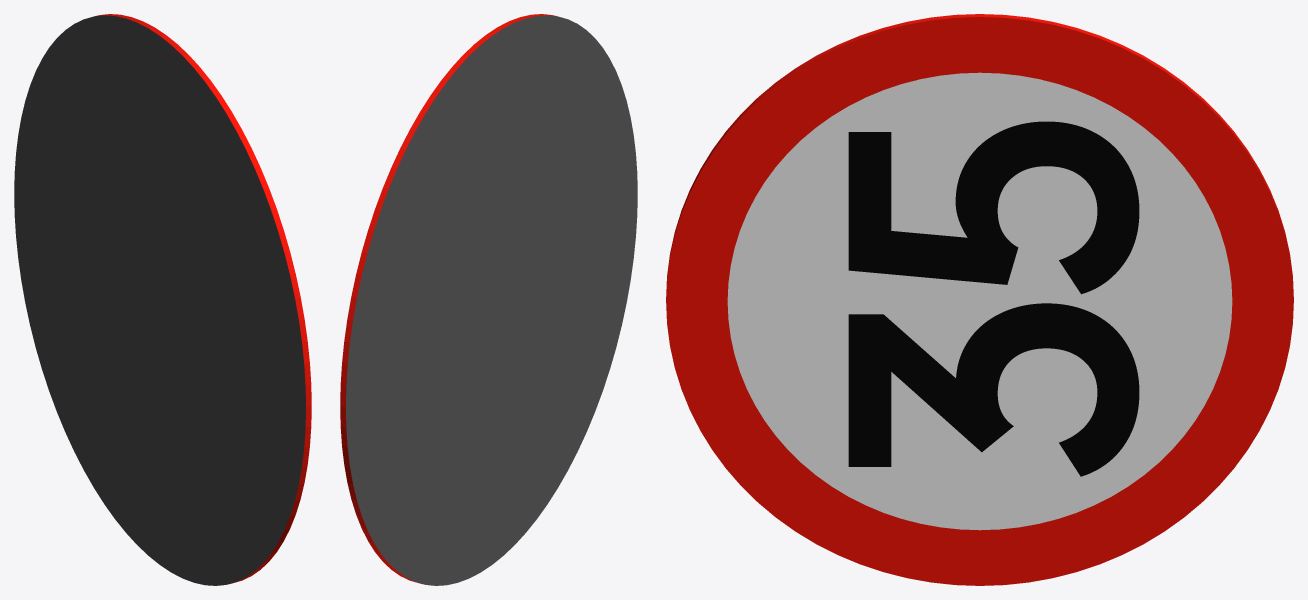
3 renders of one model, left to right at view 1: azimuth 30°, elevation 25°; view 2: azimuth 150°, elevation 25°; view 3: azimuth 270°, elevation 25°, orthographic. The views are drawn at different scales.
Parts seen in each view (by area): view 1: 圆环; view 2: 圆环; view 3: 圆环, 文本.
Boxes of the visible parts, <box> form: 圆环: <box>14,14,311,585</box>; 圆环: <box>340,14,637,585</box>; 圆环: <box>666,14,1293,585</box>; 文本: <box>848,121,1139,476</box>.
Size of the model in its own units: 0.0113 by 0.8 by 0.8.
